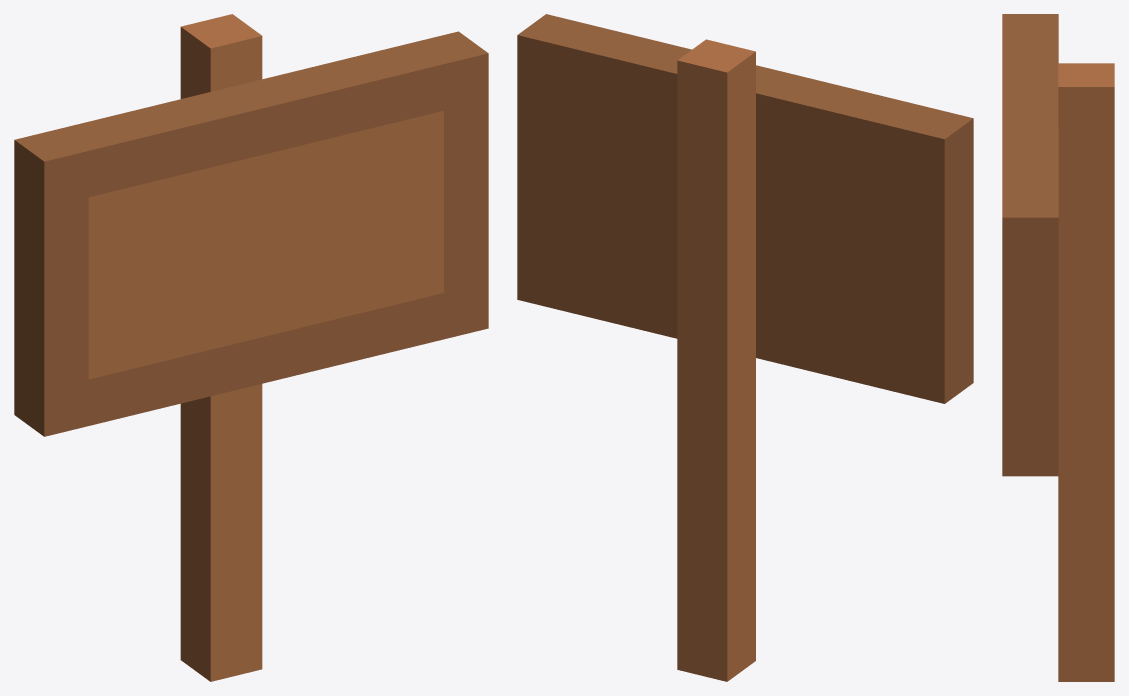
Rendered from Sign.fbx.
3 renders of one model, left to right at view 1: azimuth 30°, elevation 25°; view 2: azimuth 150°, elevation 25°; view 3: azimuth 270°, elevation 25°, orthographic. The views are drawn at different scales.
Visible parts, largest first — view 1: mergedBlocks; view 2: mergedBlocks; view 3: mergedBlocks.
Boxes of the visible parts, left/top/right/bottom form: mergedBlocks: left=14, top=14, right=488, bottom=681; mergedBlocks: left=517, top=14, right=973, bottom=681; mergedBlocks: left=1002, top=14, right=1114, bottom=681.
Size of the model in its own units: 3 by 4.09 by 0.7.
